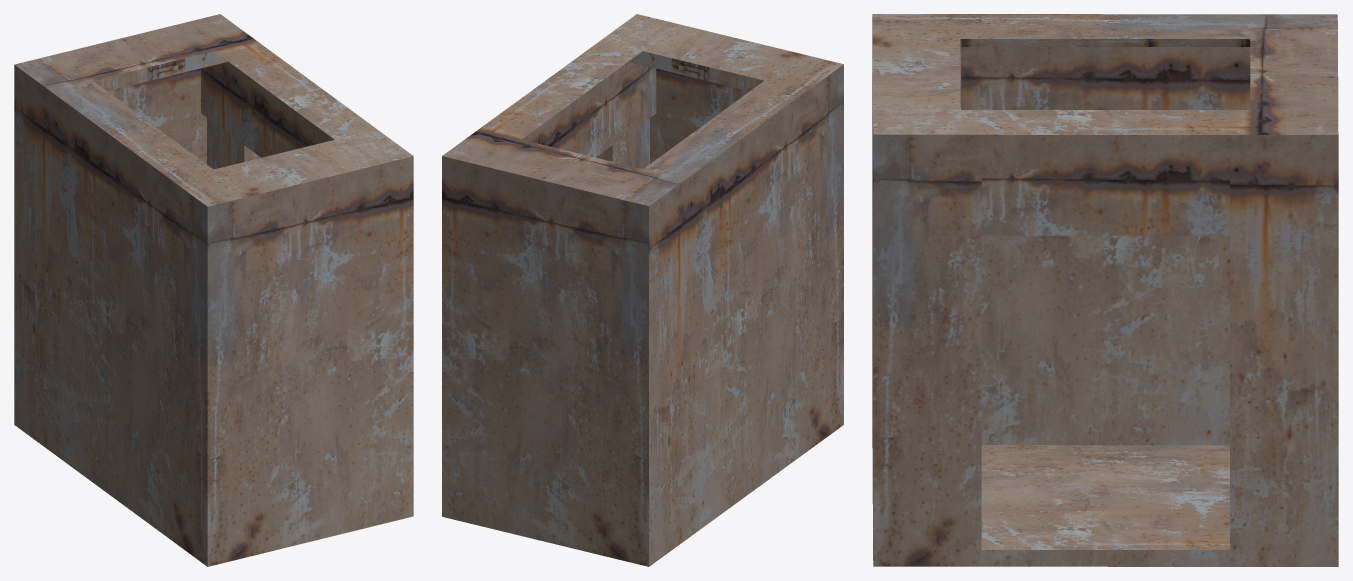
Rendered from SM_Scene_A_Lift00.fbx.
3 renders of one model, left to right at view 1: azimuth 30°, elevation 25°; view 2: azimuth 150°, elevation 25°; view 3: azimuth 270°, elevation 25°, orthographic. The views are drawn at different scales.
Visible parts, largest first — view 1: SM_Scene_A_Lift00; view 2: SM_Scene_A_Lift00; view 3: SM_Scene_A_Lift00.
Part boxes in pixels (x1=…): SM_Scene_A_Lift00: x1=14, y1=14, x2=413, y2=566; SM_Scene_A_Lift00: x1=442, y1=14, x2=843, y2=566; SM_Scene_A_Lift00: x1=872, y1=14, x2=1338, y2=566.
Size of the model in its own units: 249 by 414 by 405.
